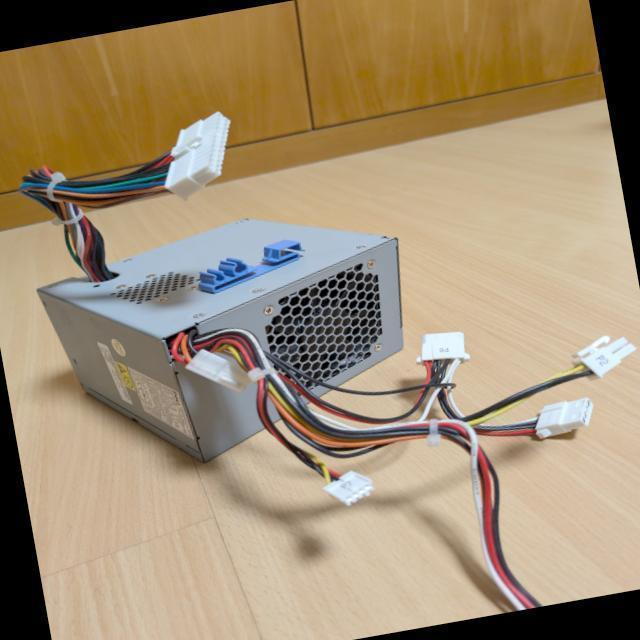PSU: (29, 192, 431, 486)
